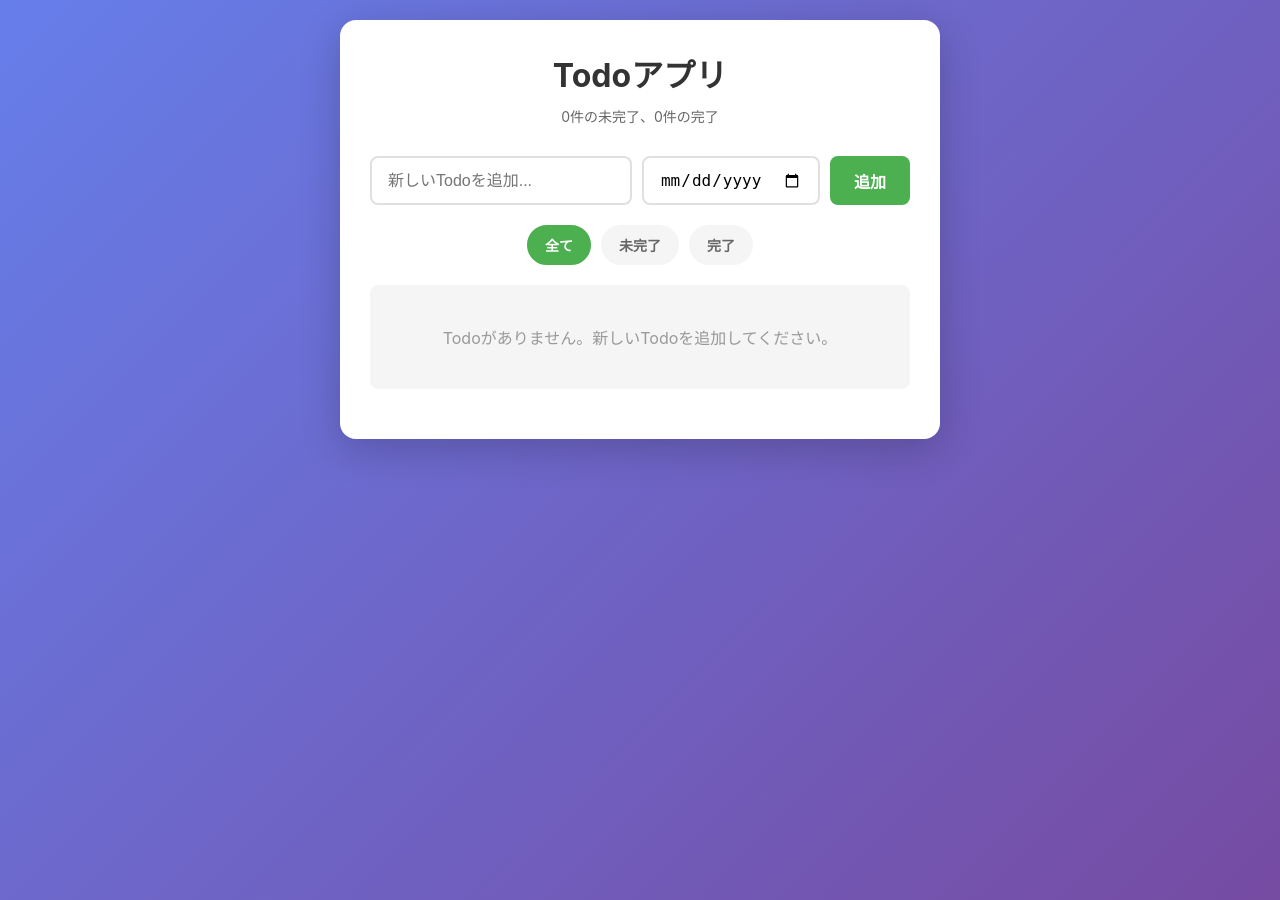
App › displays todo statistics
Type "Todo1" into the field with placeholder "新しいTodoを追加..." at (501, 180), box [370,156,632,205]
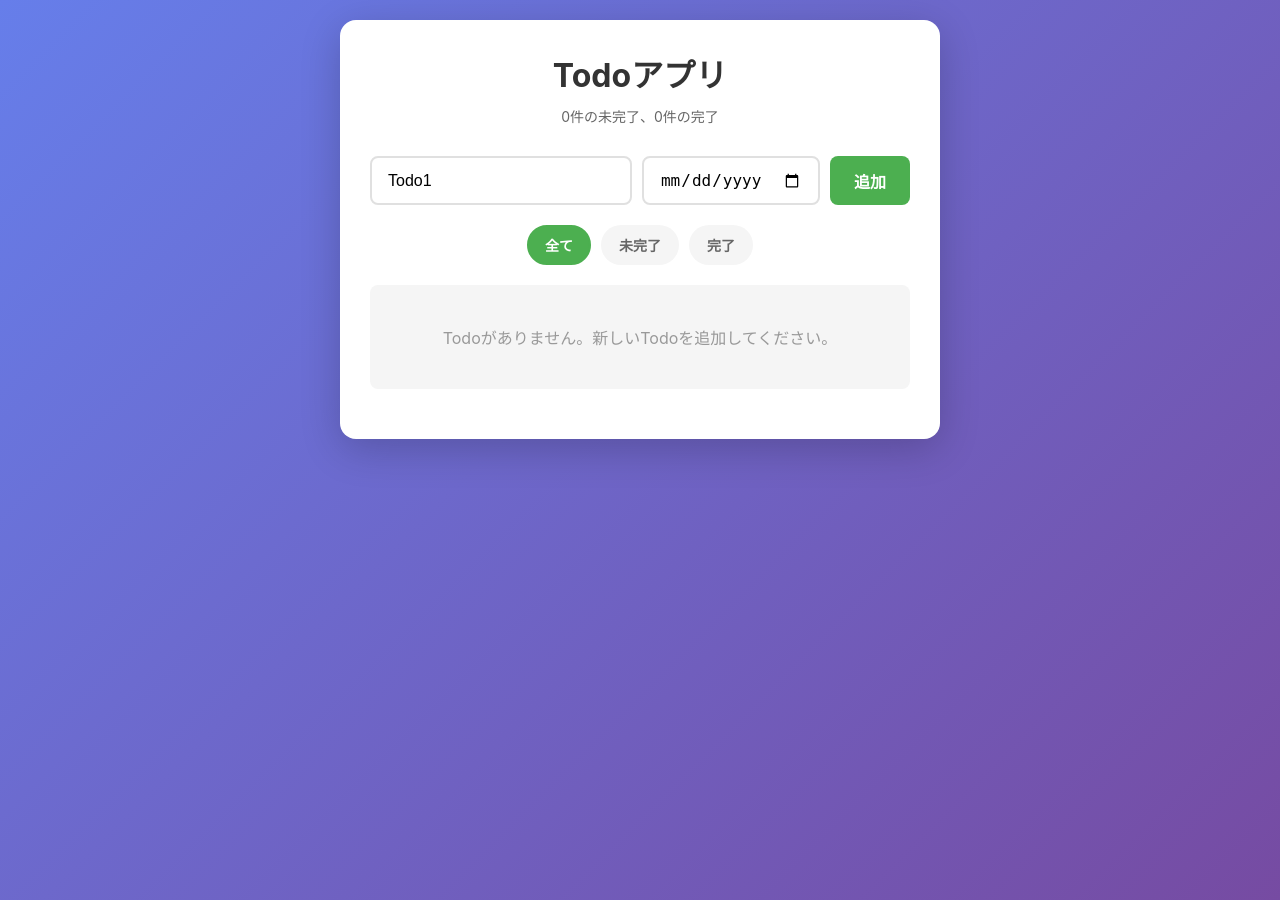
Click the button "追加" at (870, 180), box [830,156,910,205]
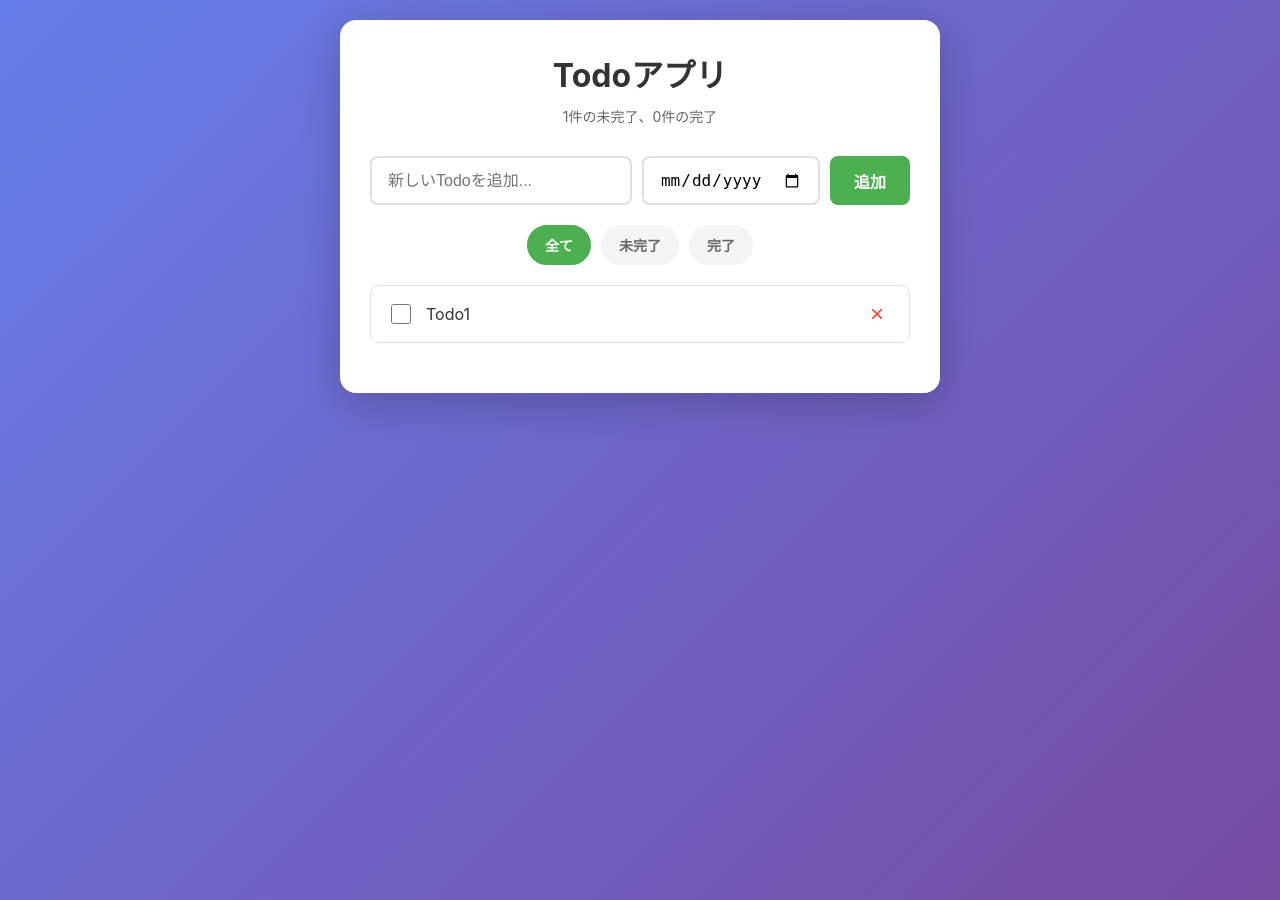
Check: the text "1件の未完了、0件の完了" is shown, box [563,108,717,125]
